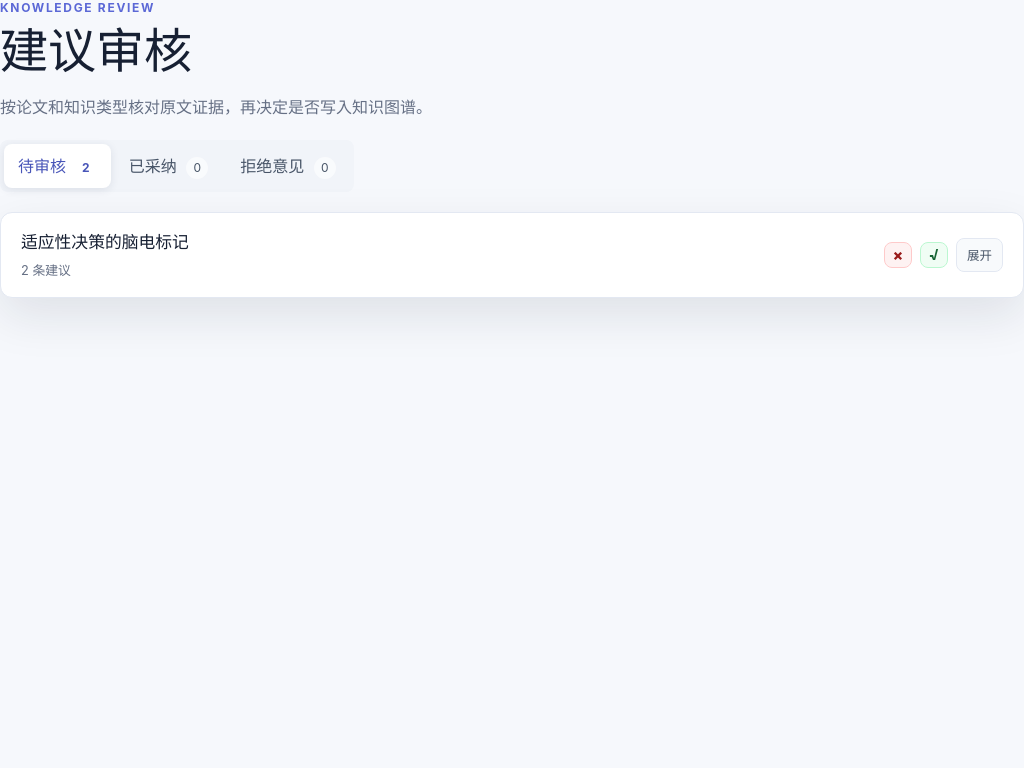
Test case: SuggestionReviewPage v05 behavior › keeps successful batch items applied when another item fails
This screenshot has width=1024, height=768.
Click the button named "批量采纳整篇论文" at (934, 255), box [920,242,948,268]
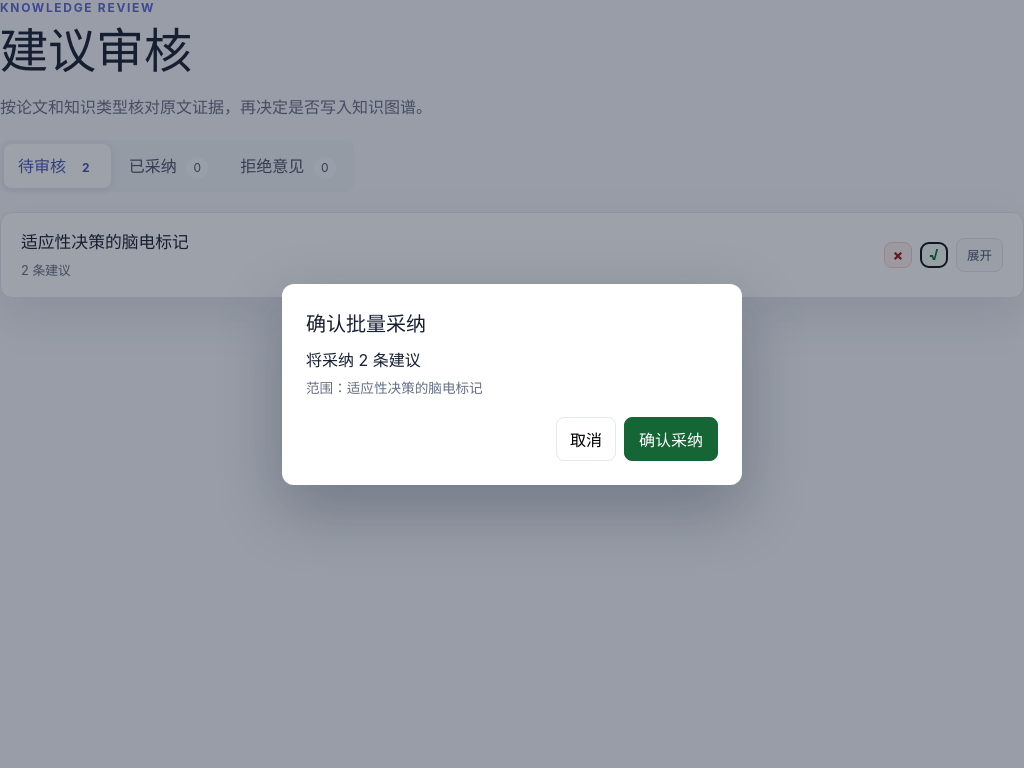
Click the button "确认采纳" at (671, 438), box [624,416,718,460]
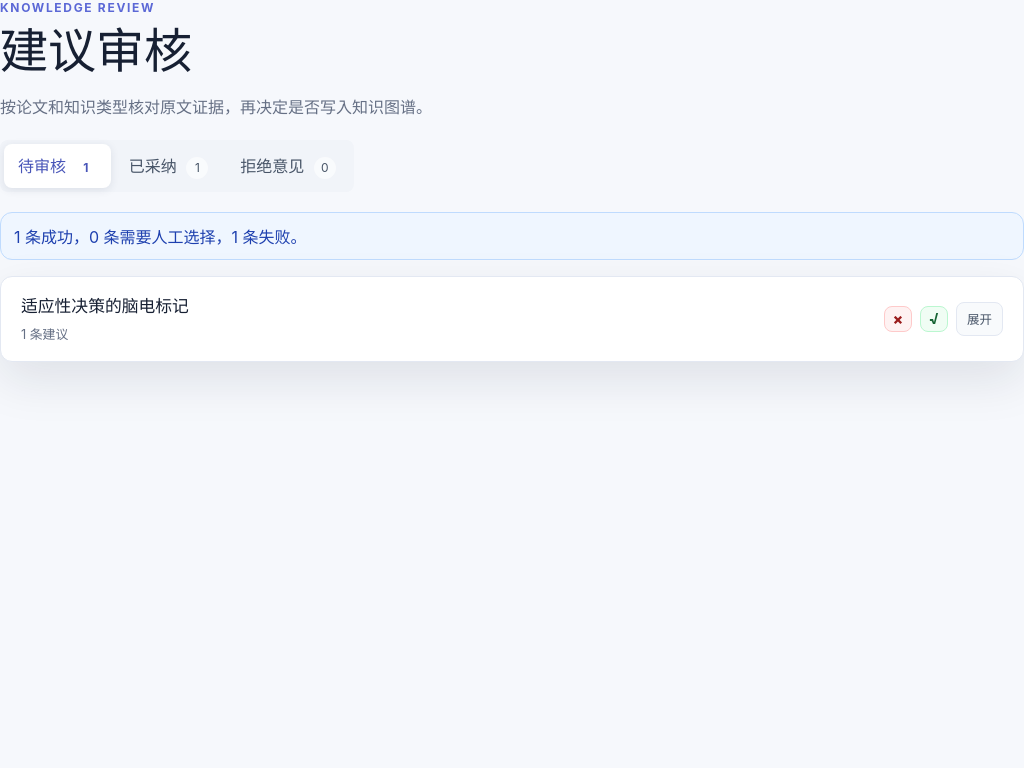
Now the message shows "1 条成功，0 条需要人工选择，1 条失败", box [14,227,307,247]
Now the text "1 条建议" is shown, box [21,327,68,342]
